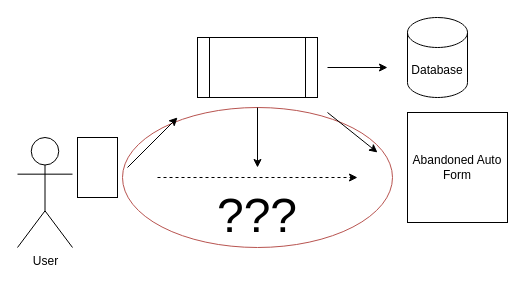
Image size: 525x286. Some labels were removed from this diagram. The shapes that lost their labels are listed below. From the top down, each one's centre as x and y in pixels, then its label:
the point at 257,67: Process: Image, location / Create payload
the point at 97,167: Phone
